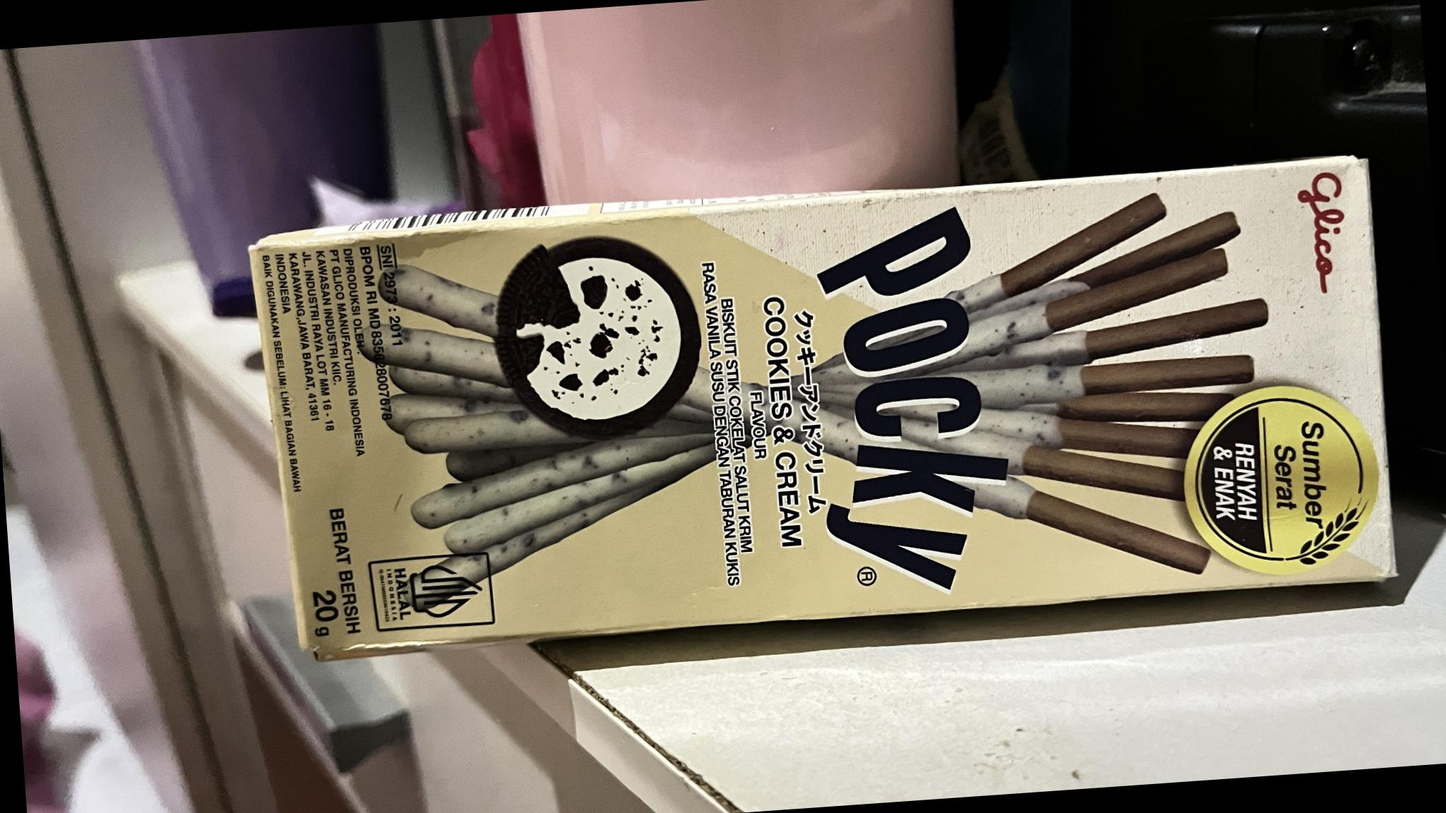Kertas: (251, 159, 1403, 656)
